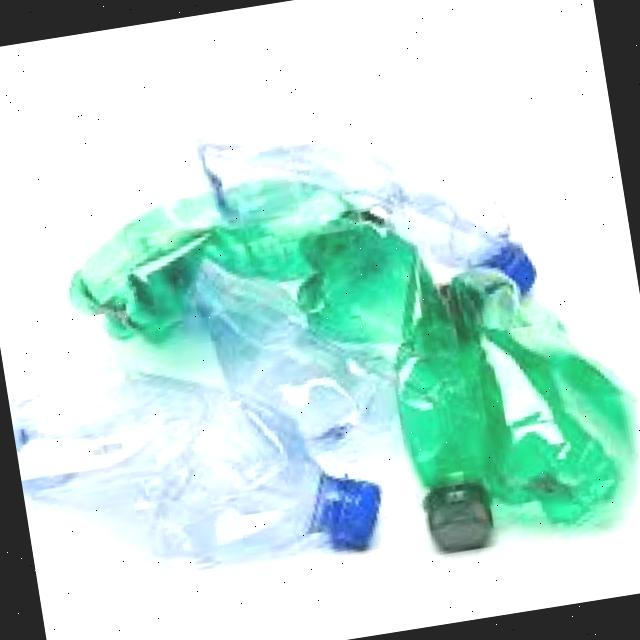trash: (38, 138, 530, 622), (281, 170, 640, 575), (5, 320, 395, 636), (185, 85, 550, 332), (178, 214, 412, 482)
